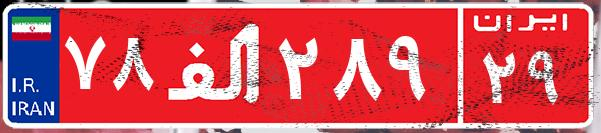2: (273, 28, 330, 110), (475, 38, 525, 113)
7: (57, 26, 110, 107)
8: (330, 28, 385, 110), (110, 28, 158, 105)
9: (385, 28, 445, 110), (525, 38, 570, 115)
الف: (158, 15, 273, 115)
